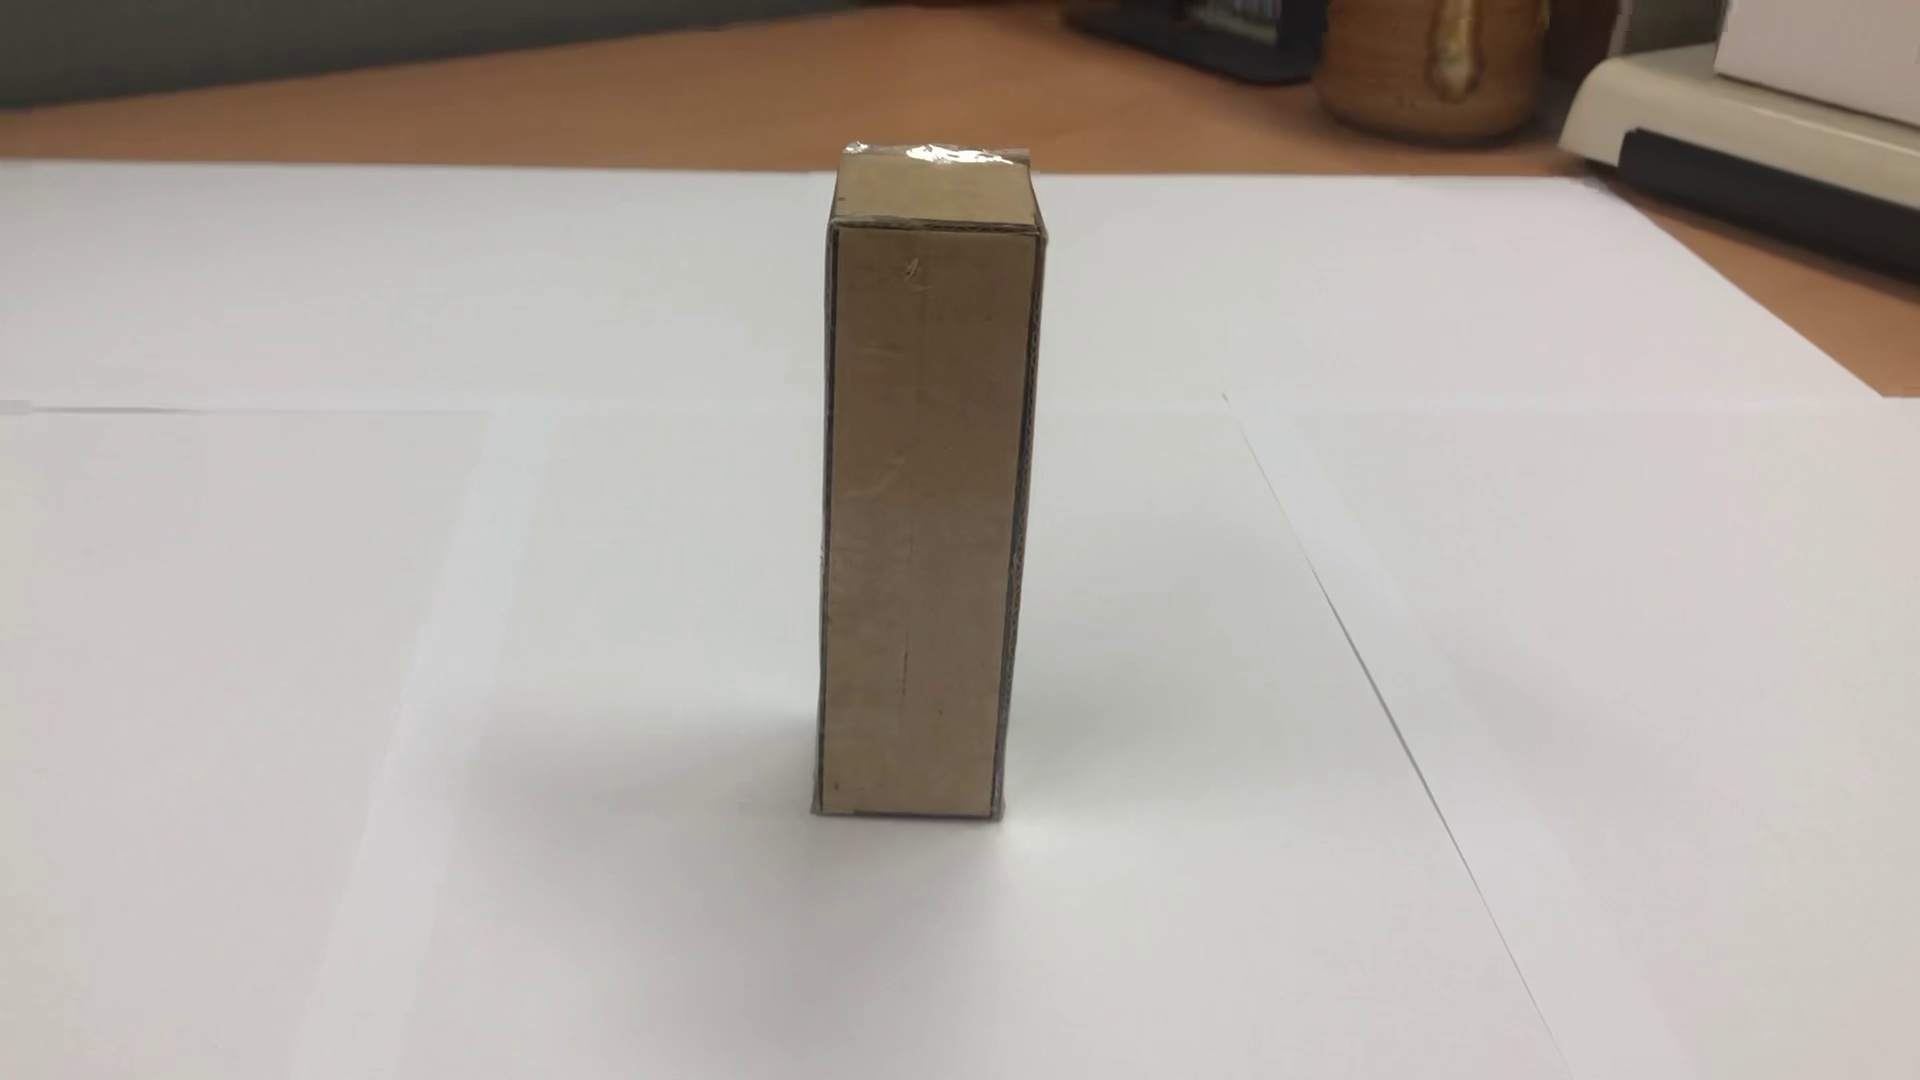box: (746, 109, 1072, 852)
